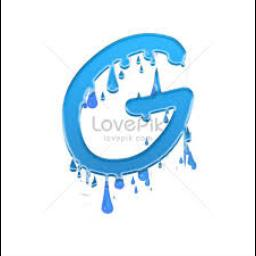g: (54, 20, 208, 200)
